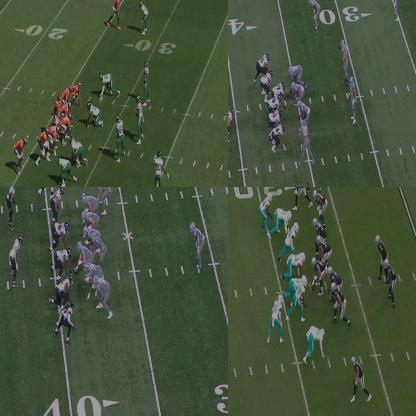CENTER: (310, 254, 324, 289), (75, 240, 90, 270), (273, 83, 287, 106), (62, 112, 73, 141)
DB: (290, 278, 306, 322), (272, 292, 282, 332), (155, 150, 166, 186), (141, 0, 152, 33), (142, 64, 150, 106), (393, 0, 402, 16)
LB: (59, 300, 74, 352), (190, 220, 204, 270), (10, 232, 22, 286), (114, 117, 127, 163), (300, 122, 314, 162), (5, 187, 20, 222), (283, 223, 299, 254), (50, 187, 65, 220), (309, 0, 323, 32), (339, 37, 350, 77), (136, 95, 145, 143), (348, 75, 356, 121), (261, 192, 273, 221)
QB: (92, 233, 108, 266), (375, 233, 386, 271), (53, 94, 61, 127)
SKILL: (351, 356, 367, 402), (94, 187, 111, 216), (386, 259, 396, 308), (270, 124, 287, 152), (16, 136, 26, 176), (109, 0, 123, 27), (315, 190, 328, 218), (293, 187, 309, 207), (73, 80, 83, 108), (228, 110, 233, 142)
